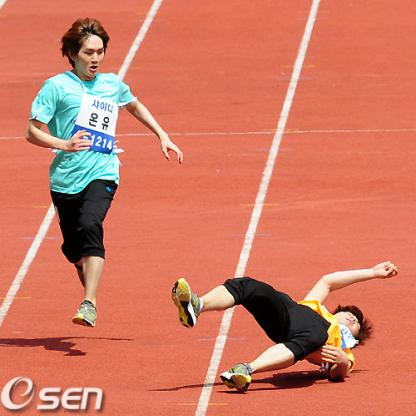Fall_Down: (171, 260, 399, 395)
